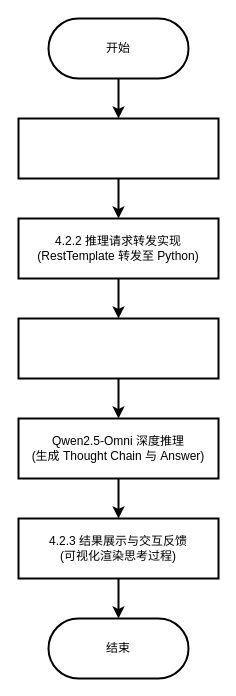
Image size: 236x696. Some labels were removed from this diagram. Here are the shapes that lost their labels. From the top down, the centre of each, then its label:
[118,148]: 4.2.1 语音采集组件实现 (MediaRecorder 录制并封装 WAV)
[118,348]: 4.3.1 音频预处理 (采样率对齐与特征提取)
